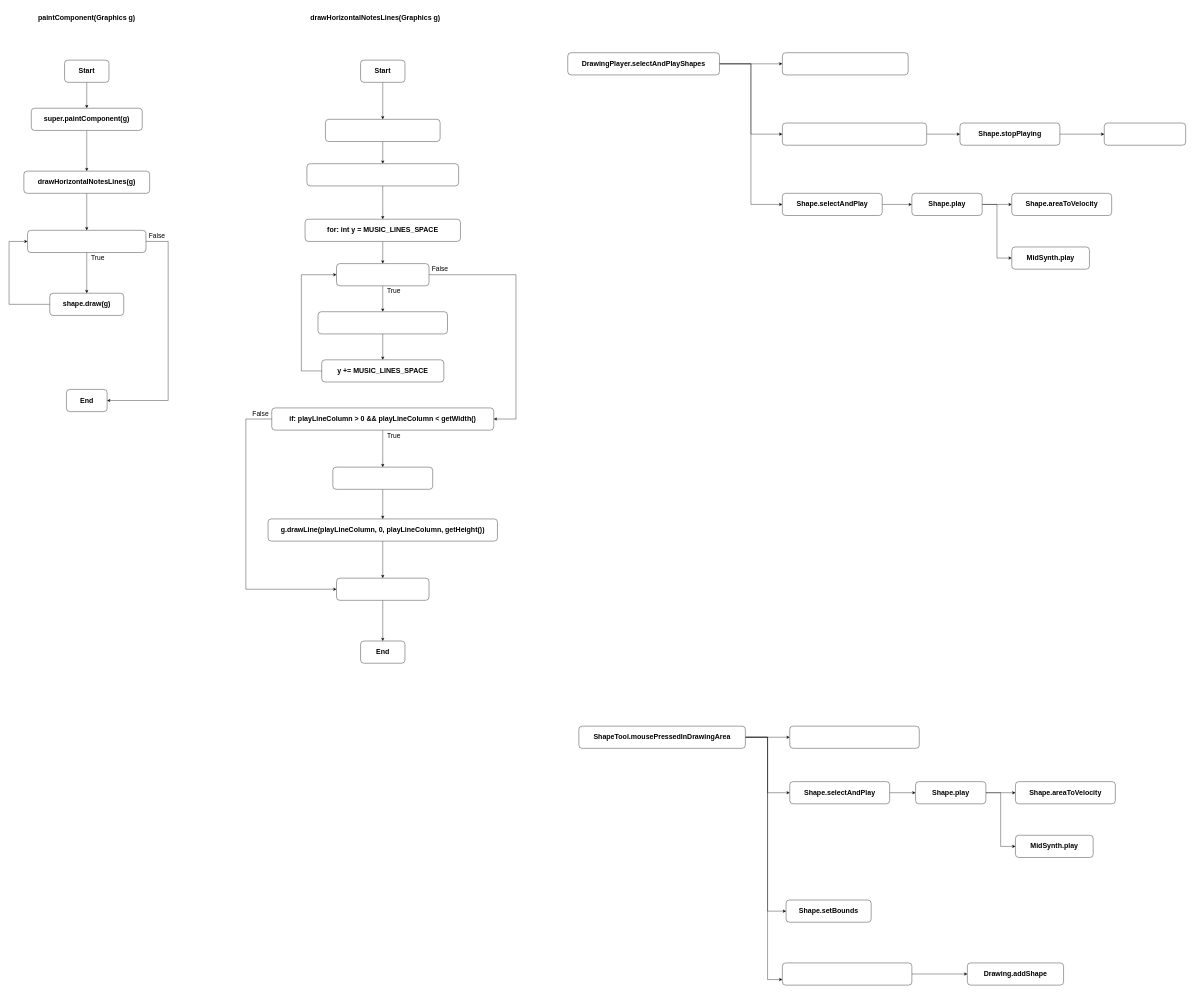
Image size: 1192x992. Some labels were removed from this diagram. The shapes that lost their labels are listed below. From the top down, each one's centre as x and y in pixels, then its label:
At [845,63]: "Drawing.getShapeAtColumn".
At [382,130]: "Color save = g.getColor()".
At [854,134]: "Shape.unselectedAndStopPlaying".
At [1145,134]: "MidSynth.stop".
At [383,174]: "g.getColor(new Color(227,227,227)".
At [86,241]: "for: Shape shape in shapes".
At [382,274]: "y < getHeight()".
At [383,322]: "g.drawLine(0,y,getWidth(),y)".
At [382,478]: "g.setColor(Color.RED)".
At [382,589]: "g.setColor(save)".
At [854,737]: "DrawingEditor.getMidiSynth".
At [847,974]: "DrawingEditor.addToDrawing".
